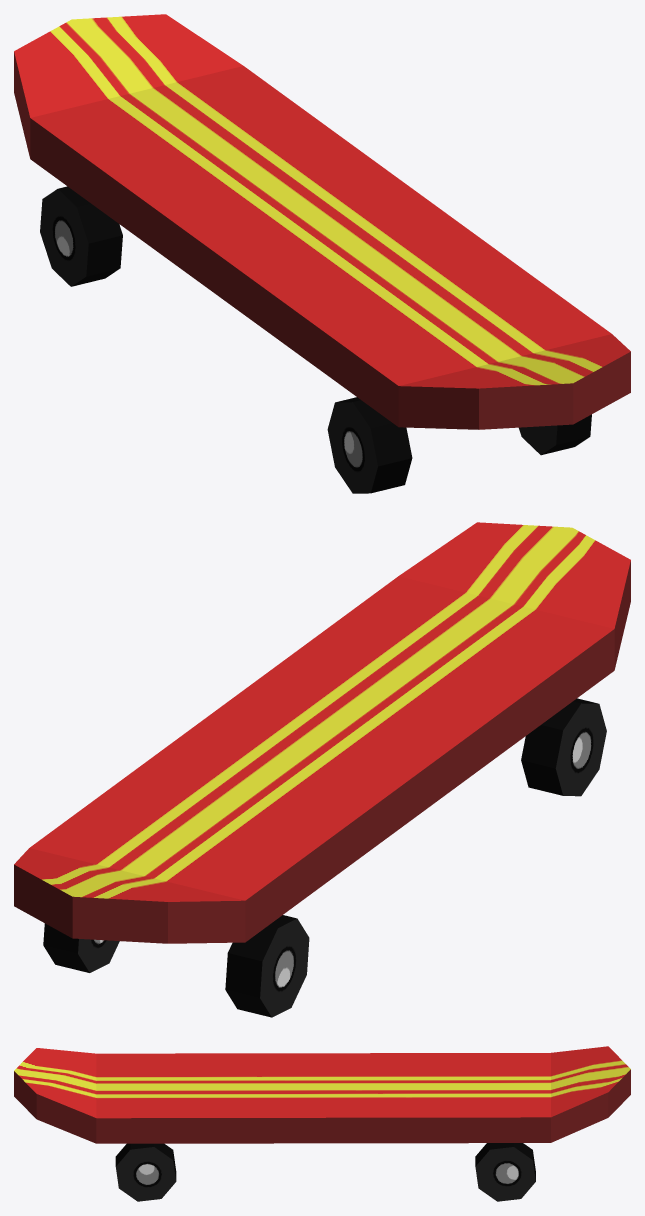
Rendered from patineta.fbx.
The picture shows the model from 3 angles, top to bottom: view 1: azimuth 30°, elevation 25°; view 2: azimuth 150°, elevation 25°; view 3: azimuth 270°, elevation 25°; orthographic projection. The views are drawn at different scales.
Visible parts, largest first — view 1: Cylinder.001; view 2: Cylinder.001; view 3: Cylinder.001.
Part boxes in pixels (x1,y1,x2,y2): Cylinder.001: [14, 14, 630, 493]; Cylinder.001: [14, 522, 630, 1017]; Cylinder.001: [14, 1046, 630, 1201].
Bounding box in the file's own units: 70.65 × 49.77 × 277.
1 material, 1 textured.
